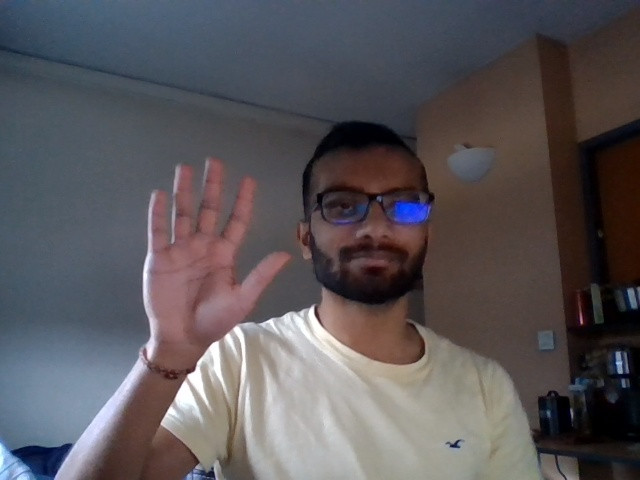Hello: (120, 147, 301, 355)
